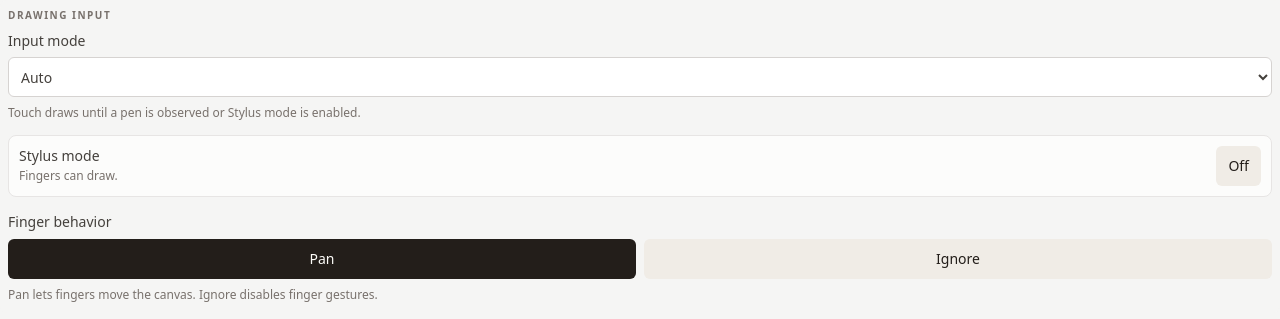
Test case: InputSettingsSection › describes and persists the selected input mode
The width and height of the screenshot is (1280, 319).
Select "Stylus-only" in the dropdown named "Drawing input mode" at [640, 77], box [8,57,1272,97]
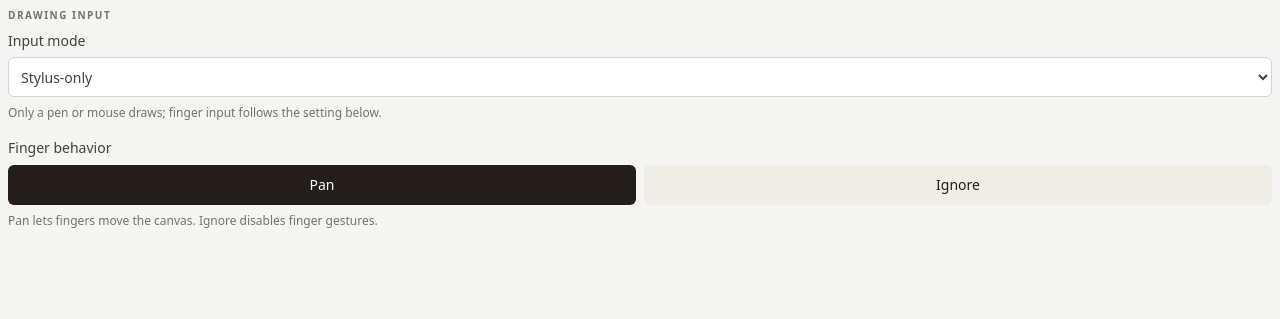
Expected: the text "Only a pen or mouse draws" is shown, [8,104,382,121]
